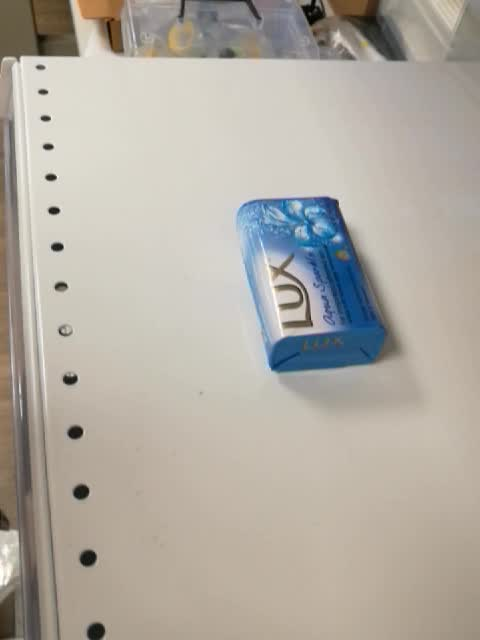soap: (234, 194, 389, 374)
